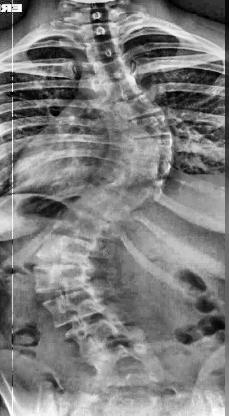Vertebrae: (64, 34, 154, 70), (77, 72, 169, 106), (80, 164, 169, 196), (74, 50, 152, 86), (55, 188, 146, 218), (66, 318, 150, 350), (106, 132, 182, 166), (86, 346, 170, 376), (40, 213, 120, 243), (100, 92, 170, 126), (106, 113, 182, 144), (23, 261, 97, 291), (34, 291, 113, 319), (27, 236, 99, 266)
